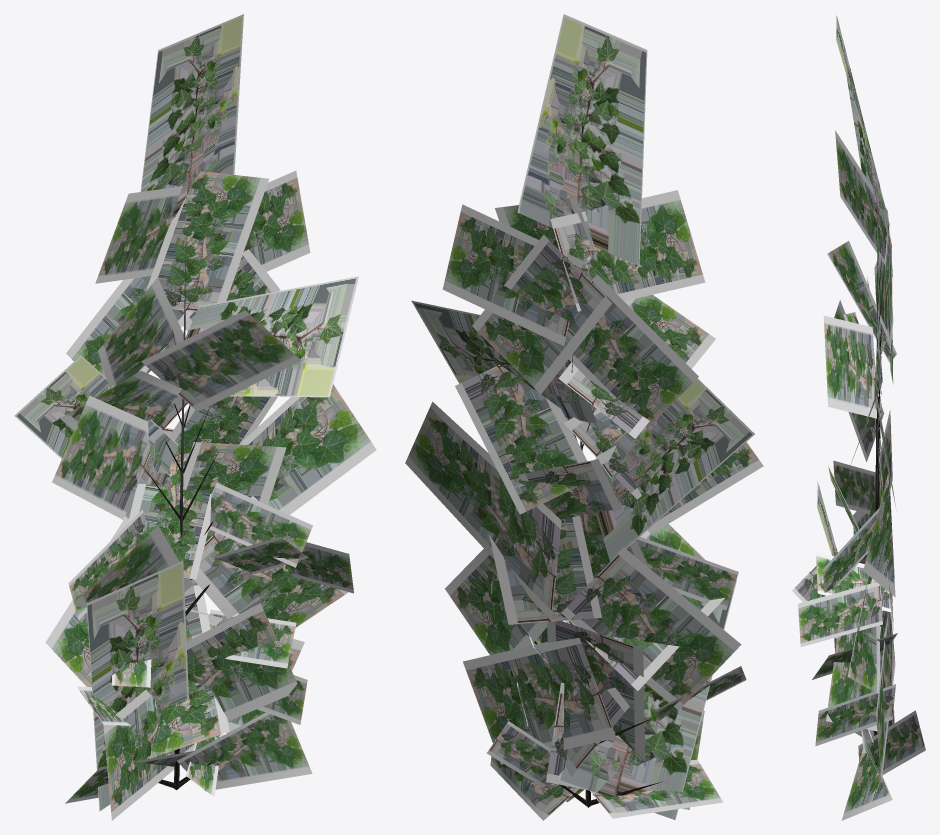
Rendered from Ivy1.fbx.
3 views of the same model, side by side, from view 1: azimuth 30°, elevation 25°; view 2: azimuth 150°, elevation 25°; view 3: azimuth 270°, elevation 25° (orthographic). The views are drawn at different scales.
Parts seen in each view (by area): view 1: Ivy1; view 2: Ivy1; view 3: Ivy1.
Part boxes in pixels (x1,y1,x2,y2): Ivy1: (14,14,376,820); Ivy1: (405,14,763,820); Ivy1: (792,15,925,820).
Bounding box in the file's own units: 169 × 359 × 56.95.
